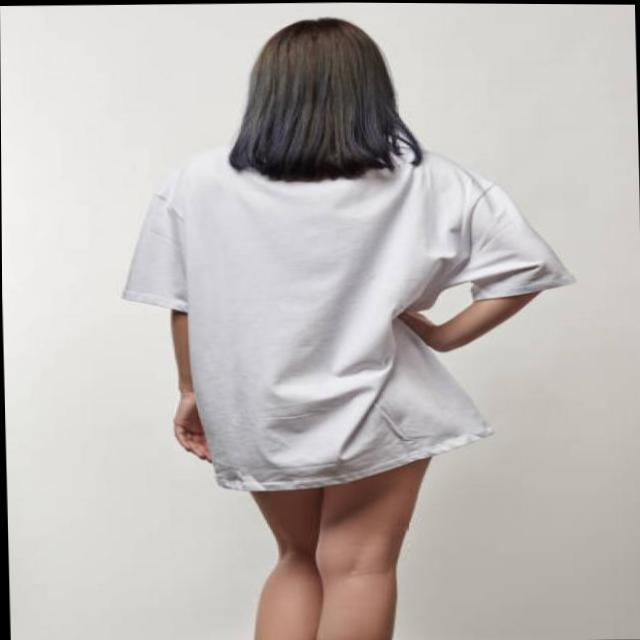no helmet: (196, 17, 426, 175)
